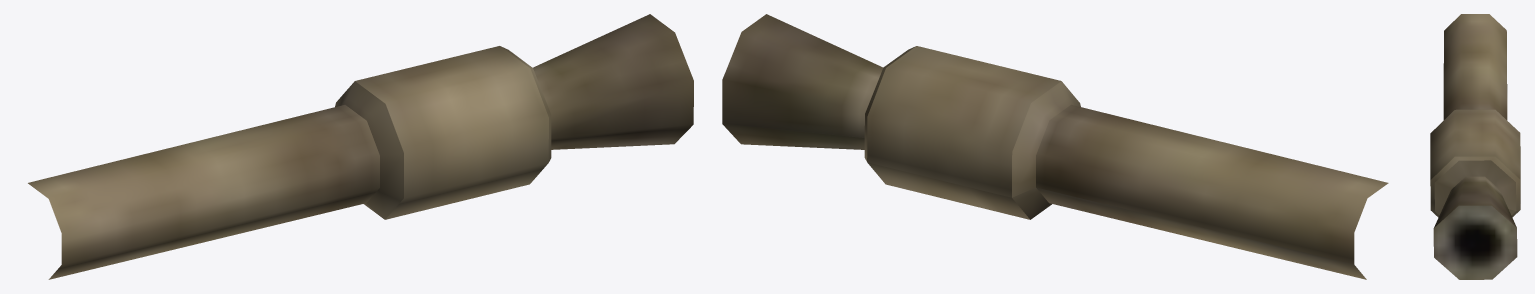
File: weapon_machinegun_crusader2.glb
3 views of the same model, side by side, from view 1: azimuth 30°, elevation 25°; view 2: azimuth 150°, elevation 25°; view 3: azimuth 270°, elevation 25° (orthographic). The views are drawn at different scales.
Bounding box in the file's own units: 13.81 × 2.47 × 2.61.
1 material, 1 textured.
